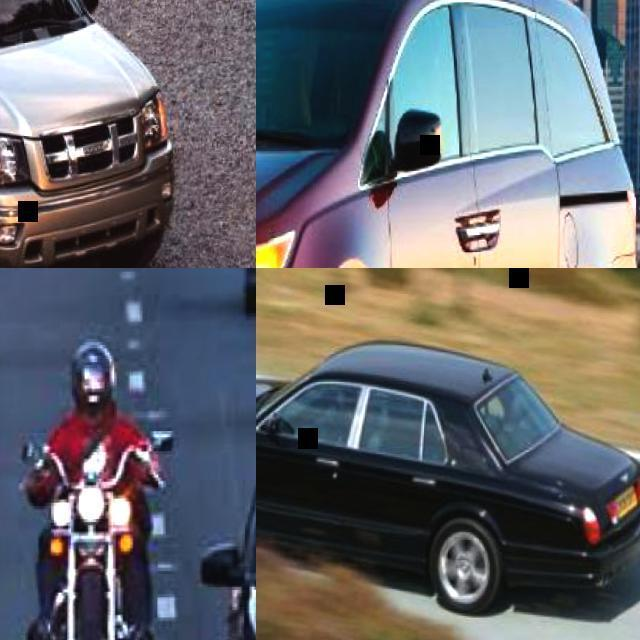car: (255, 345, 638, 614), (0, 0, 175, 259)
